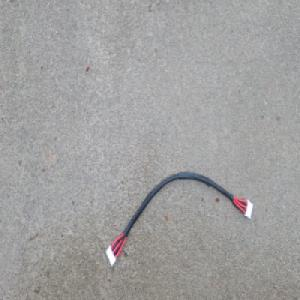Wire: (105, 169, 255, 268)
